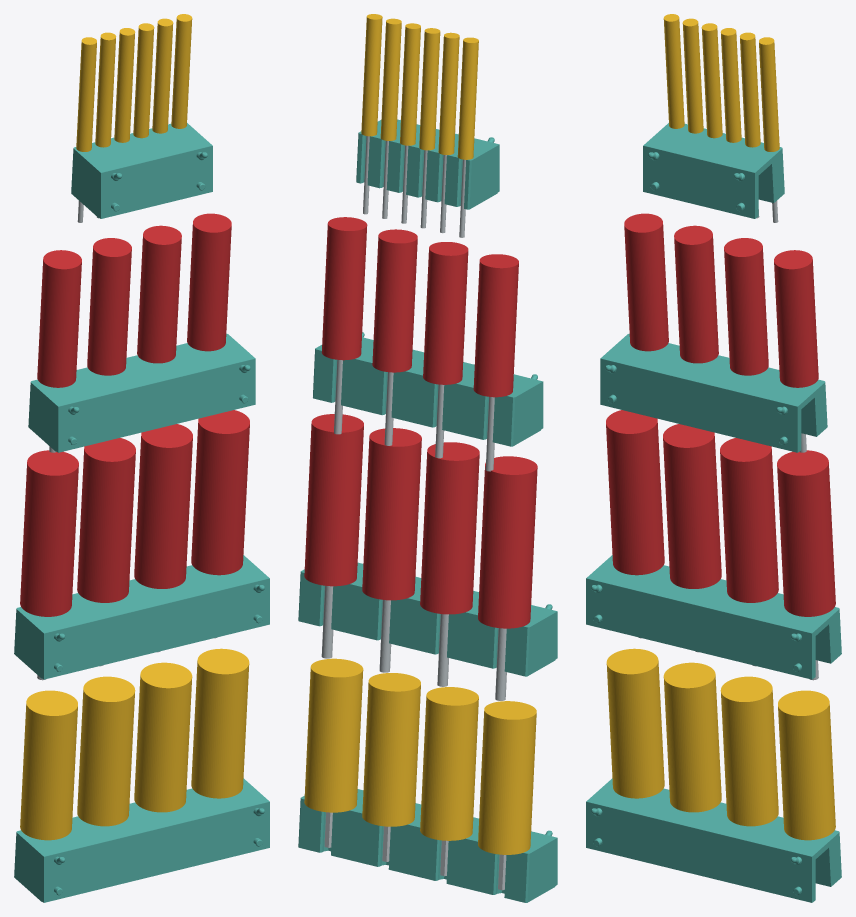
Rendered from magnetic-shaft-holders__v1__family-loaded.glb.
3 views of the same model, side by side, from view 1: azimuth 30°, elevation 25°; view 2: azimuth 150°, elevation 25°; view 3: azimuth 330°, elevation 25° (orthographic).
Visible parts, largest first — view 1: handles-reference.002, handles-reference.003, handles-reference.001, Actual holder mesh.002, Actual holder mesh.003, Actual holder mesh.001, handles-reference, Actual holder mesh; view 2: handles-reference.002, handles-reference.003, handles-reference.001, handles-reference, Actual holder mesh.003, Actual holder mesh.002, Actual holder mesh.001, Actual holder mesh, shafts-reference.002, shafts-reference, shafts-reference.001, shafts-reference.003; view 3: handles-reference.002, handles-reference.003, handles-reference.001, Actual holder mesh.002, Actual holder mesh.003, Actual holder mesh.001, handles-reference, Actual holder mesh.
Part boxes in pixels (x1,y1,x2,y2): handles-reference.002: (20, 410, 249, 616); handles-reference.003: (20, 648, 249, 840); handles-reference.001: (37, 213, 231, 387); Actual holder mesh.002: (14, 555, 269, 679); Actual holder mesh.003: (14, 778, 269, 902); Actual holder mesh.001: (28, 333, 255, 452); handles-reference: (76, 14, 192, 151); Actual holder mesh: (71, 123, 212, 218); handles-reference.002: (304, 414, 537, 628); handles-reference.003: (304, 658, 536, 854); handles-reference.001: (321, 217, 518, 397); handles-reference: (361, 14, 478, 159); Actual holder mesh.003: (298, 789, 557, 902); Actual holder mesh.002: (298, 562, 557, 676); Actual holder mesh.001: (313, 332, 543, 446); Actual holder mesh: (356, 119, 499, 209); shafts-reference.002: (321, 585, 506, 700); shafts-reference: (363, 136, 465, 237); shafts-reference.001: (334, 360, 494, 471); shafts-reference.003: (324, 812, 506, 890); handles-reference.002: (606, 410, 835, 616); handles-reference.003: (606, 648, 835, 840); handles-reference.001: (624, 213, 818, 387); Actual holder mesh.002: (586, 555, 841, 679); Actual holder mesh.003: (586, 778, 841, 902); Actual holder mesh.001: (600, 333, 827, 452); handles-reference: (663, 14, 779, 151); Actual holder mesh: (643, 123, 784, 218).
Bounding box in the file's own units: 0.2012 × 0.7084 × 0.0691.
